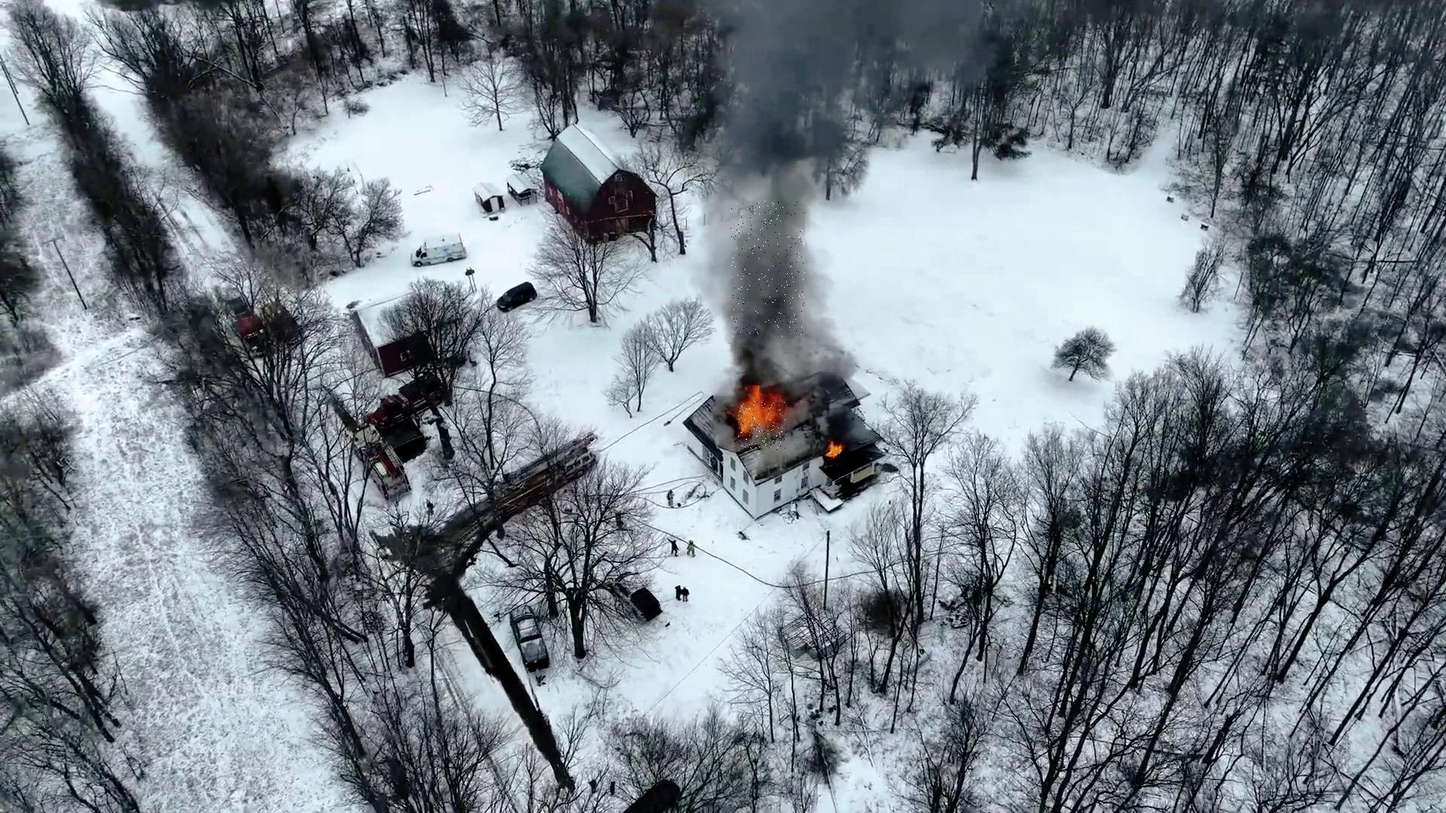fire: (739, 401, 787, 450)
smoke: (731, 202, 805, 338)
